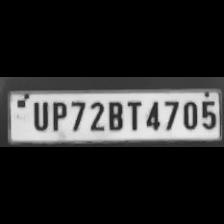0: (179, 98, 199, 130)
2: (85, 98, 105, 132)
4: (142, 97, 162, 130)
5: (198, 97, 218, 130)
7: (66, 97, 86, 131), (160, 97, 178, 130)
B: (105, 98, 125, 132)
P: (48, 98, 68, 132)
T: (124, 98, 142, 130)
U: (28, 98, 50, 132)
